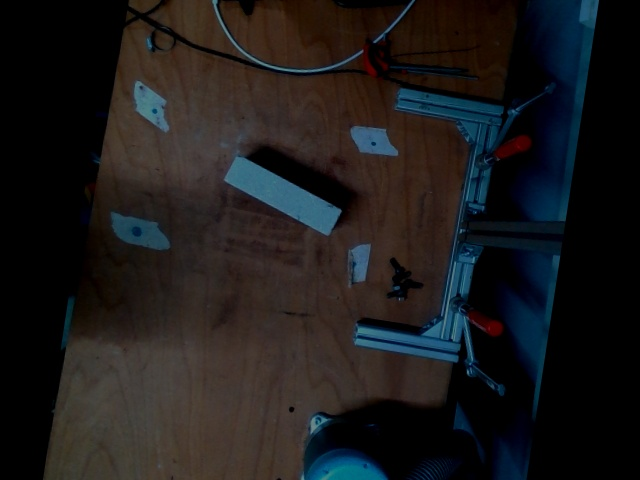brick-side: (223, 155, 342, 236)
